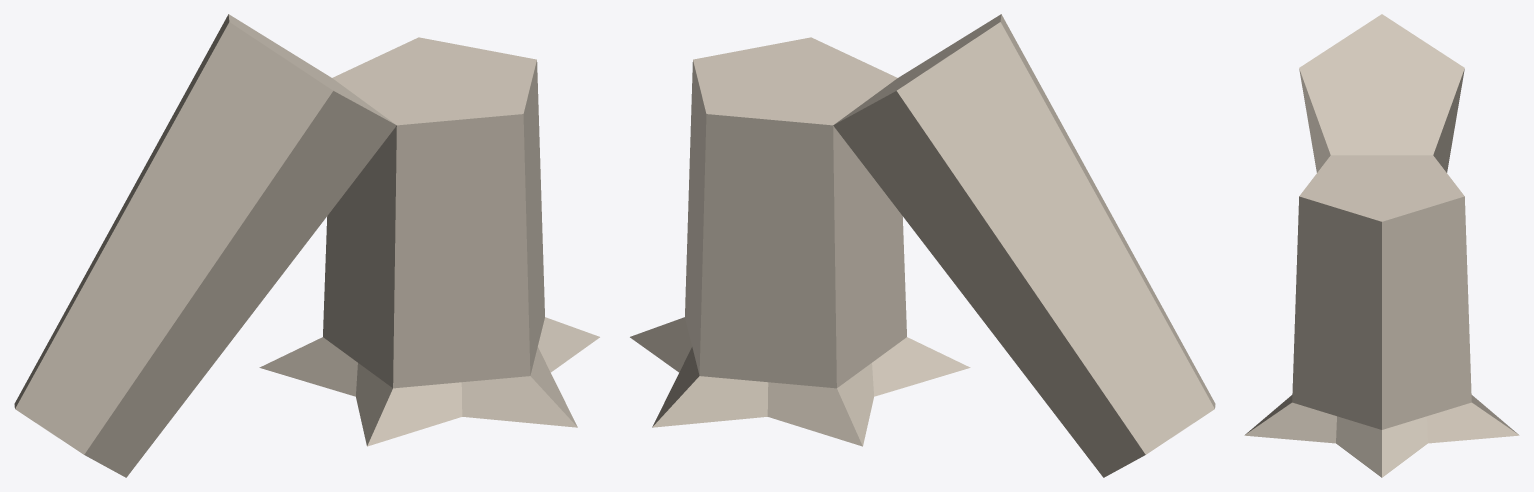
Rendered from Birch5.fbx.
3 views of the same model, side by side, from view 1: azimuth 30°, elevation 25°; view 2: azimuth 150°, elevation 25°; view 3: azimuth 270°, elevation 25° (orthographic). The views are drawn at different scales.
Visible parts, largest first — view 1: Birch5; view 2: Birch5; view 3: Birch5.
Boxes of the visible parts, box(x1,y1,x2,y2) form: Birch5: box(14, 14, 599, 477); Birch5: box(630, 14, 1215, 477); Birch5: box(1244, 14, 1519, 477).
Size of the model in its own units: 4.84 by 3.23 by 2.5.
